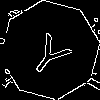Y: (25, 25, 79, 81)
